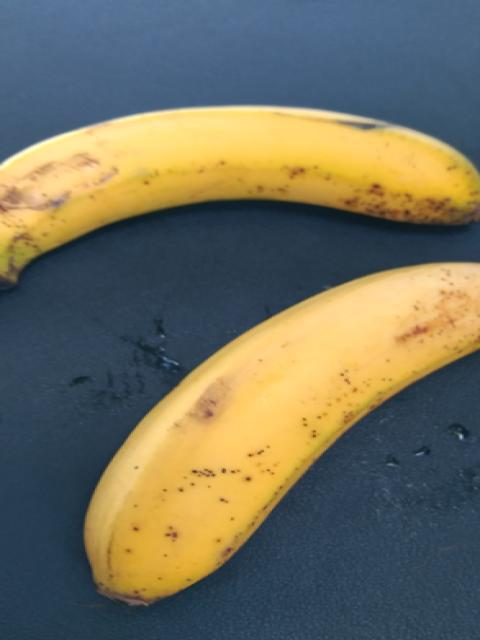ripe: (43, 252, 479, 623), (0, 97, 479, 292)
